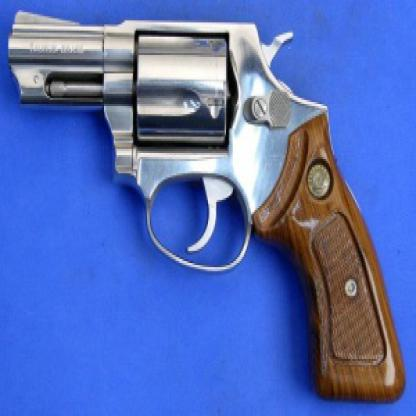Guns: (4, 4, 405, 402)
